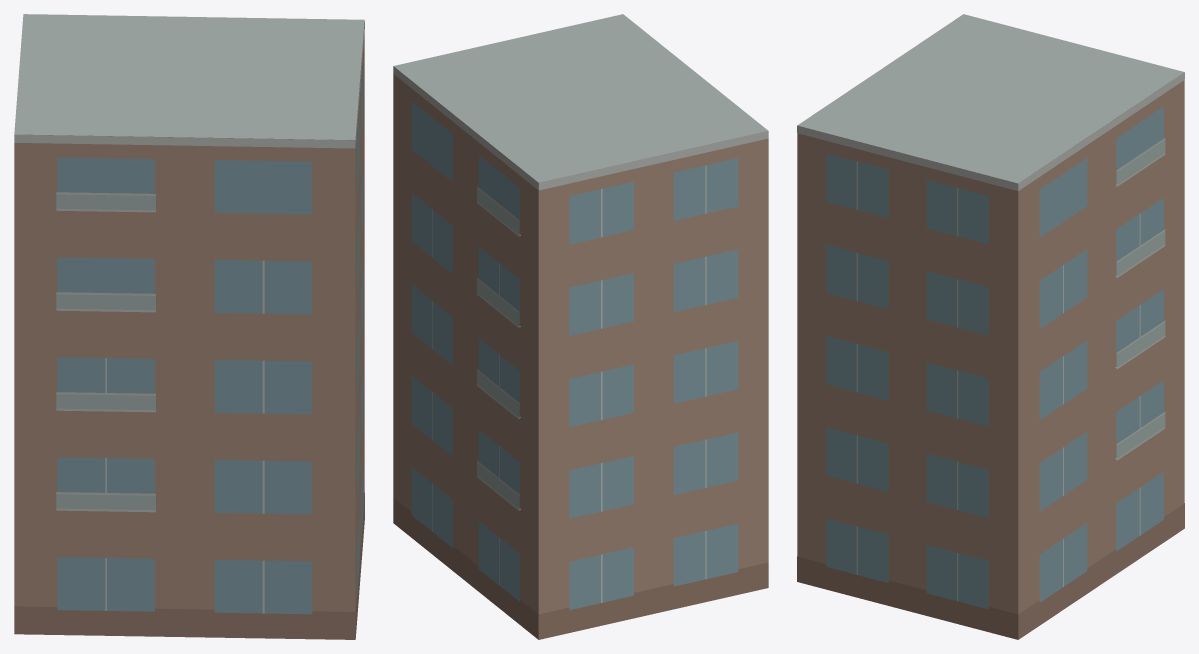
Rendered from survey-upis-32515647.glb.
3 views of the same model, side by side, from view 1: azimuth 30°, elevation 25°; view 2: azimuth 150°, elevation 25°; view 3: azimuth 270°, elevation 25° (orthographic). The views are drawn at different scales.
Parts seen in each view (by area): view 1: survey-upis-32515647.tmp; view 2: survey-upis-32515647.tmp; view 3: survey-upis-32515647.tmp.
Part boxes in pixels (x1,y1,x2,y2): survey-upis-32515647.tmp: [14, 14, 364, 639]; survey-upis-32515647.tmp: [393, 14, 768, 639]; survey-upis-32515647.tmp: [797, 14, 1184, 639].
Size of the model in its own units: 11.6 by 14.55 by 11.21.
